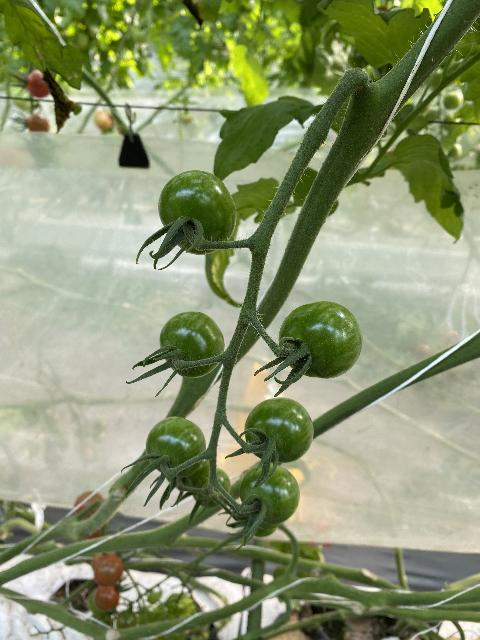l_green: (157, 171, 237, 255), (277, 301, 363, 378), (244, 397, 314, 463), (159, 311, 225, 378), (239, 463, 300, 523), (146, 417, 207, 476), (193, 467, 231, 507), (164, 460, 209, 489)
